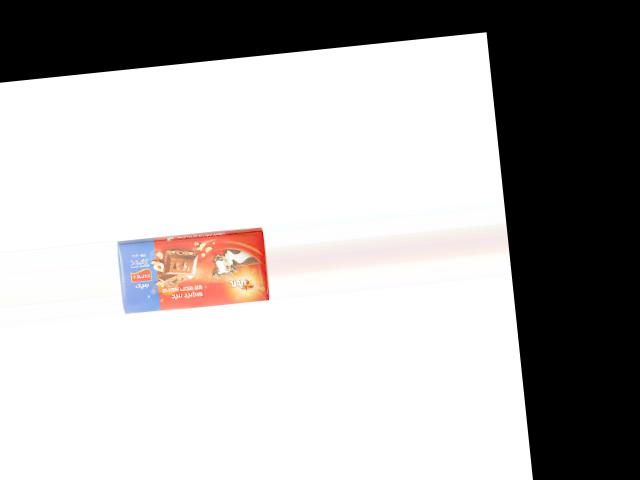chocolate: (116, 226, 271, 314)
